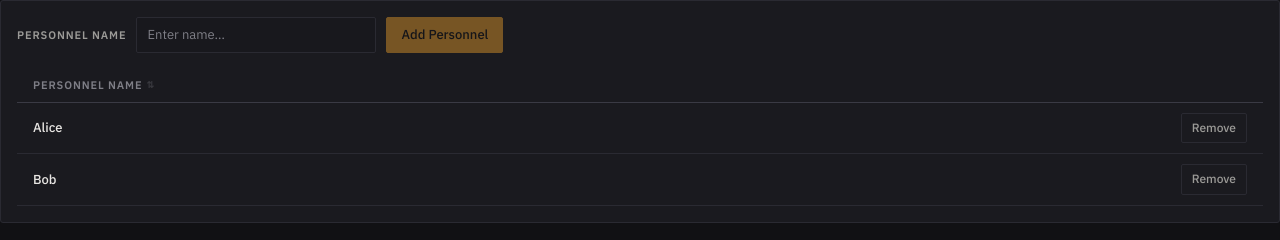
it: PersonnelPanel › shows confirm/cancel buttons after clicking remove
Click the button with test id "personnel-remove-Alice". click: {"x": 1214, "y": 128}
box: [1181, 113, 1247, 144]
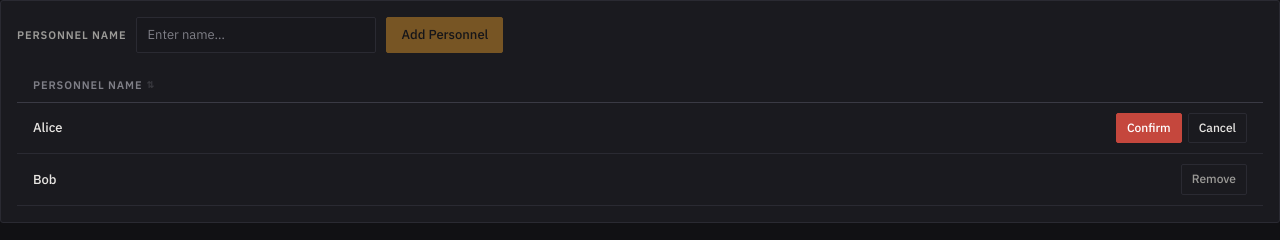
Check: the button with test id "personnel-confirm-Alice" is shown, box [1116, 113, 1182, 144]
Check: the button "Cancel" is shown, box [1188, 113, 1247, 144]
